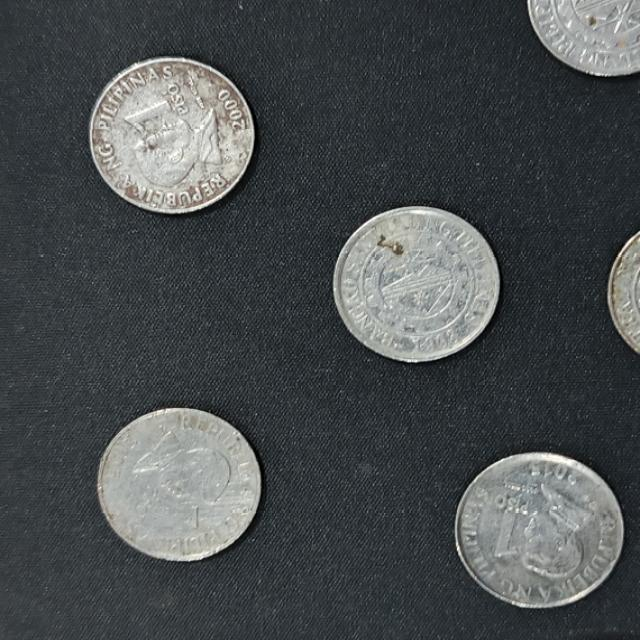1_peso: (91, 57, 254, 213), (456, 454, 622, 607), (335, 207, 499, 360), (99, 409, 260, 561)
